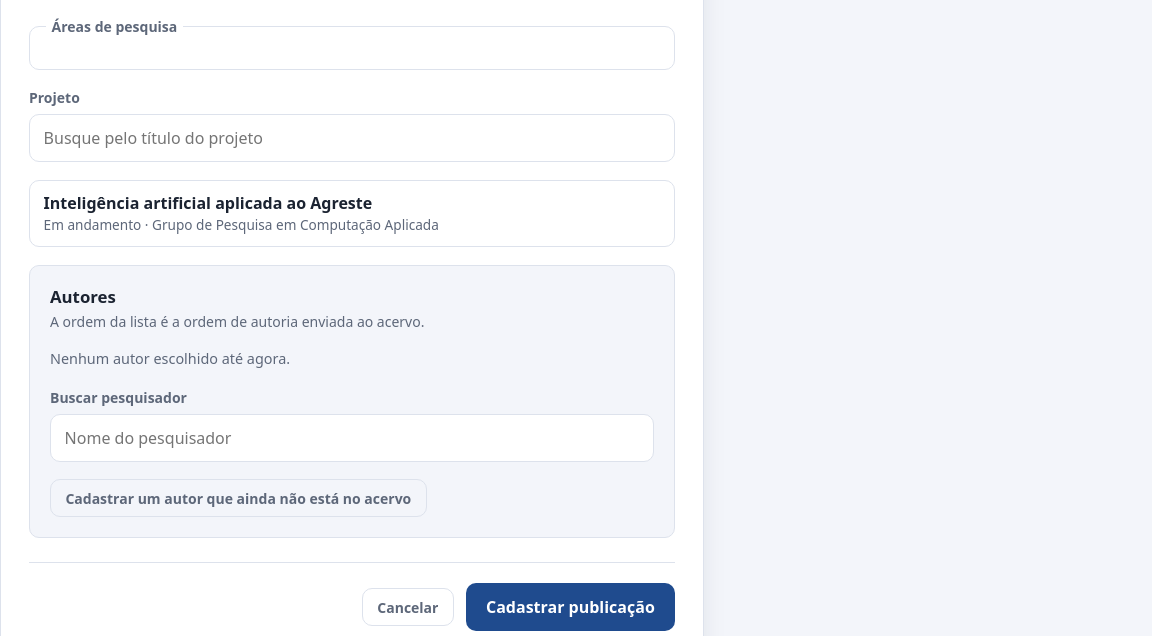
Test: Tela de cadastro de publicação › sem projeto e sem autor, a validação do cliente segura o envio
The image size is (1152, 636).
(page scrolled)
Click the button "Cadastrar publicação": coordinates (570, 607) [466, 583, 675, 631]
(page scrolled)
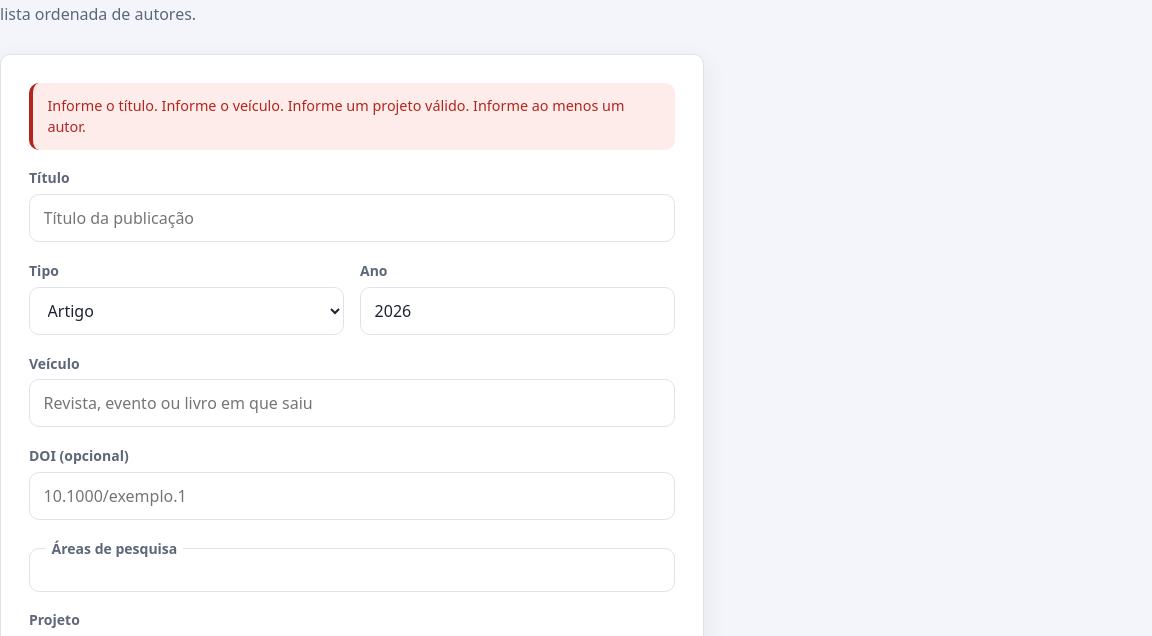
Now the text "informe ao menos um autor" is shown, box [47, 96, 624, 136]
